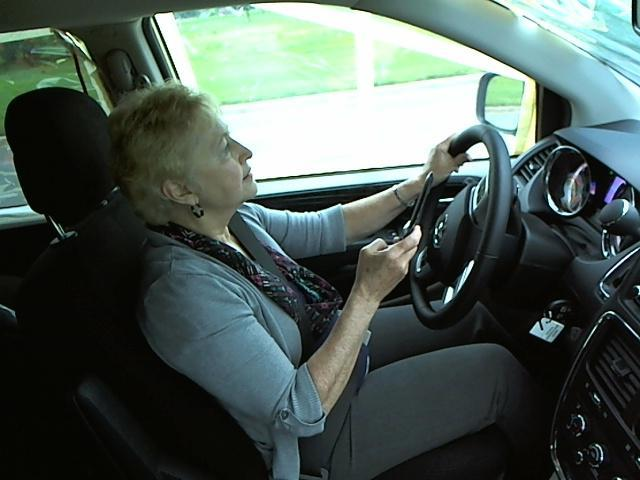PhoneUse: (383, 165, 448, 256)
